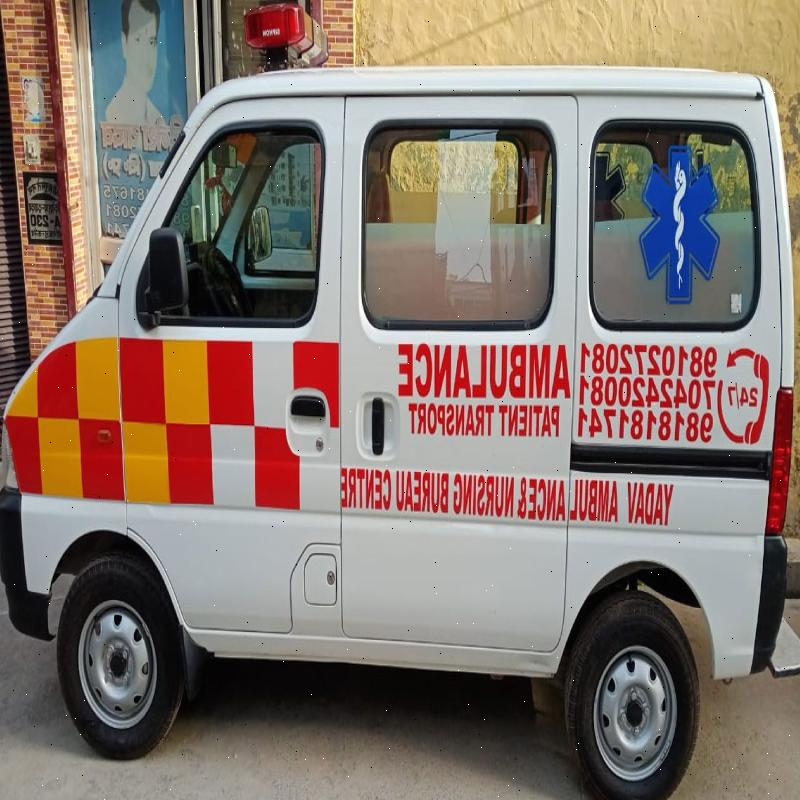ambulance: (0, 38, 792, 778)
